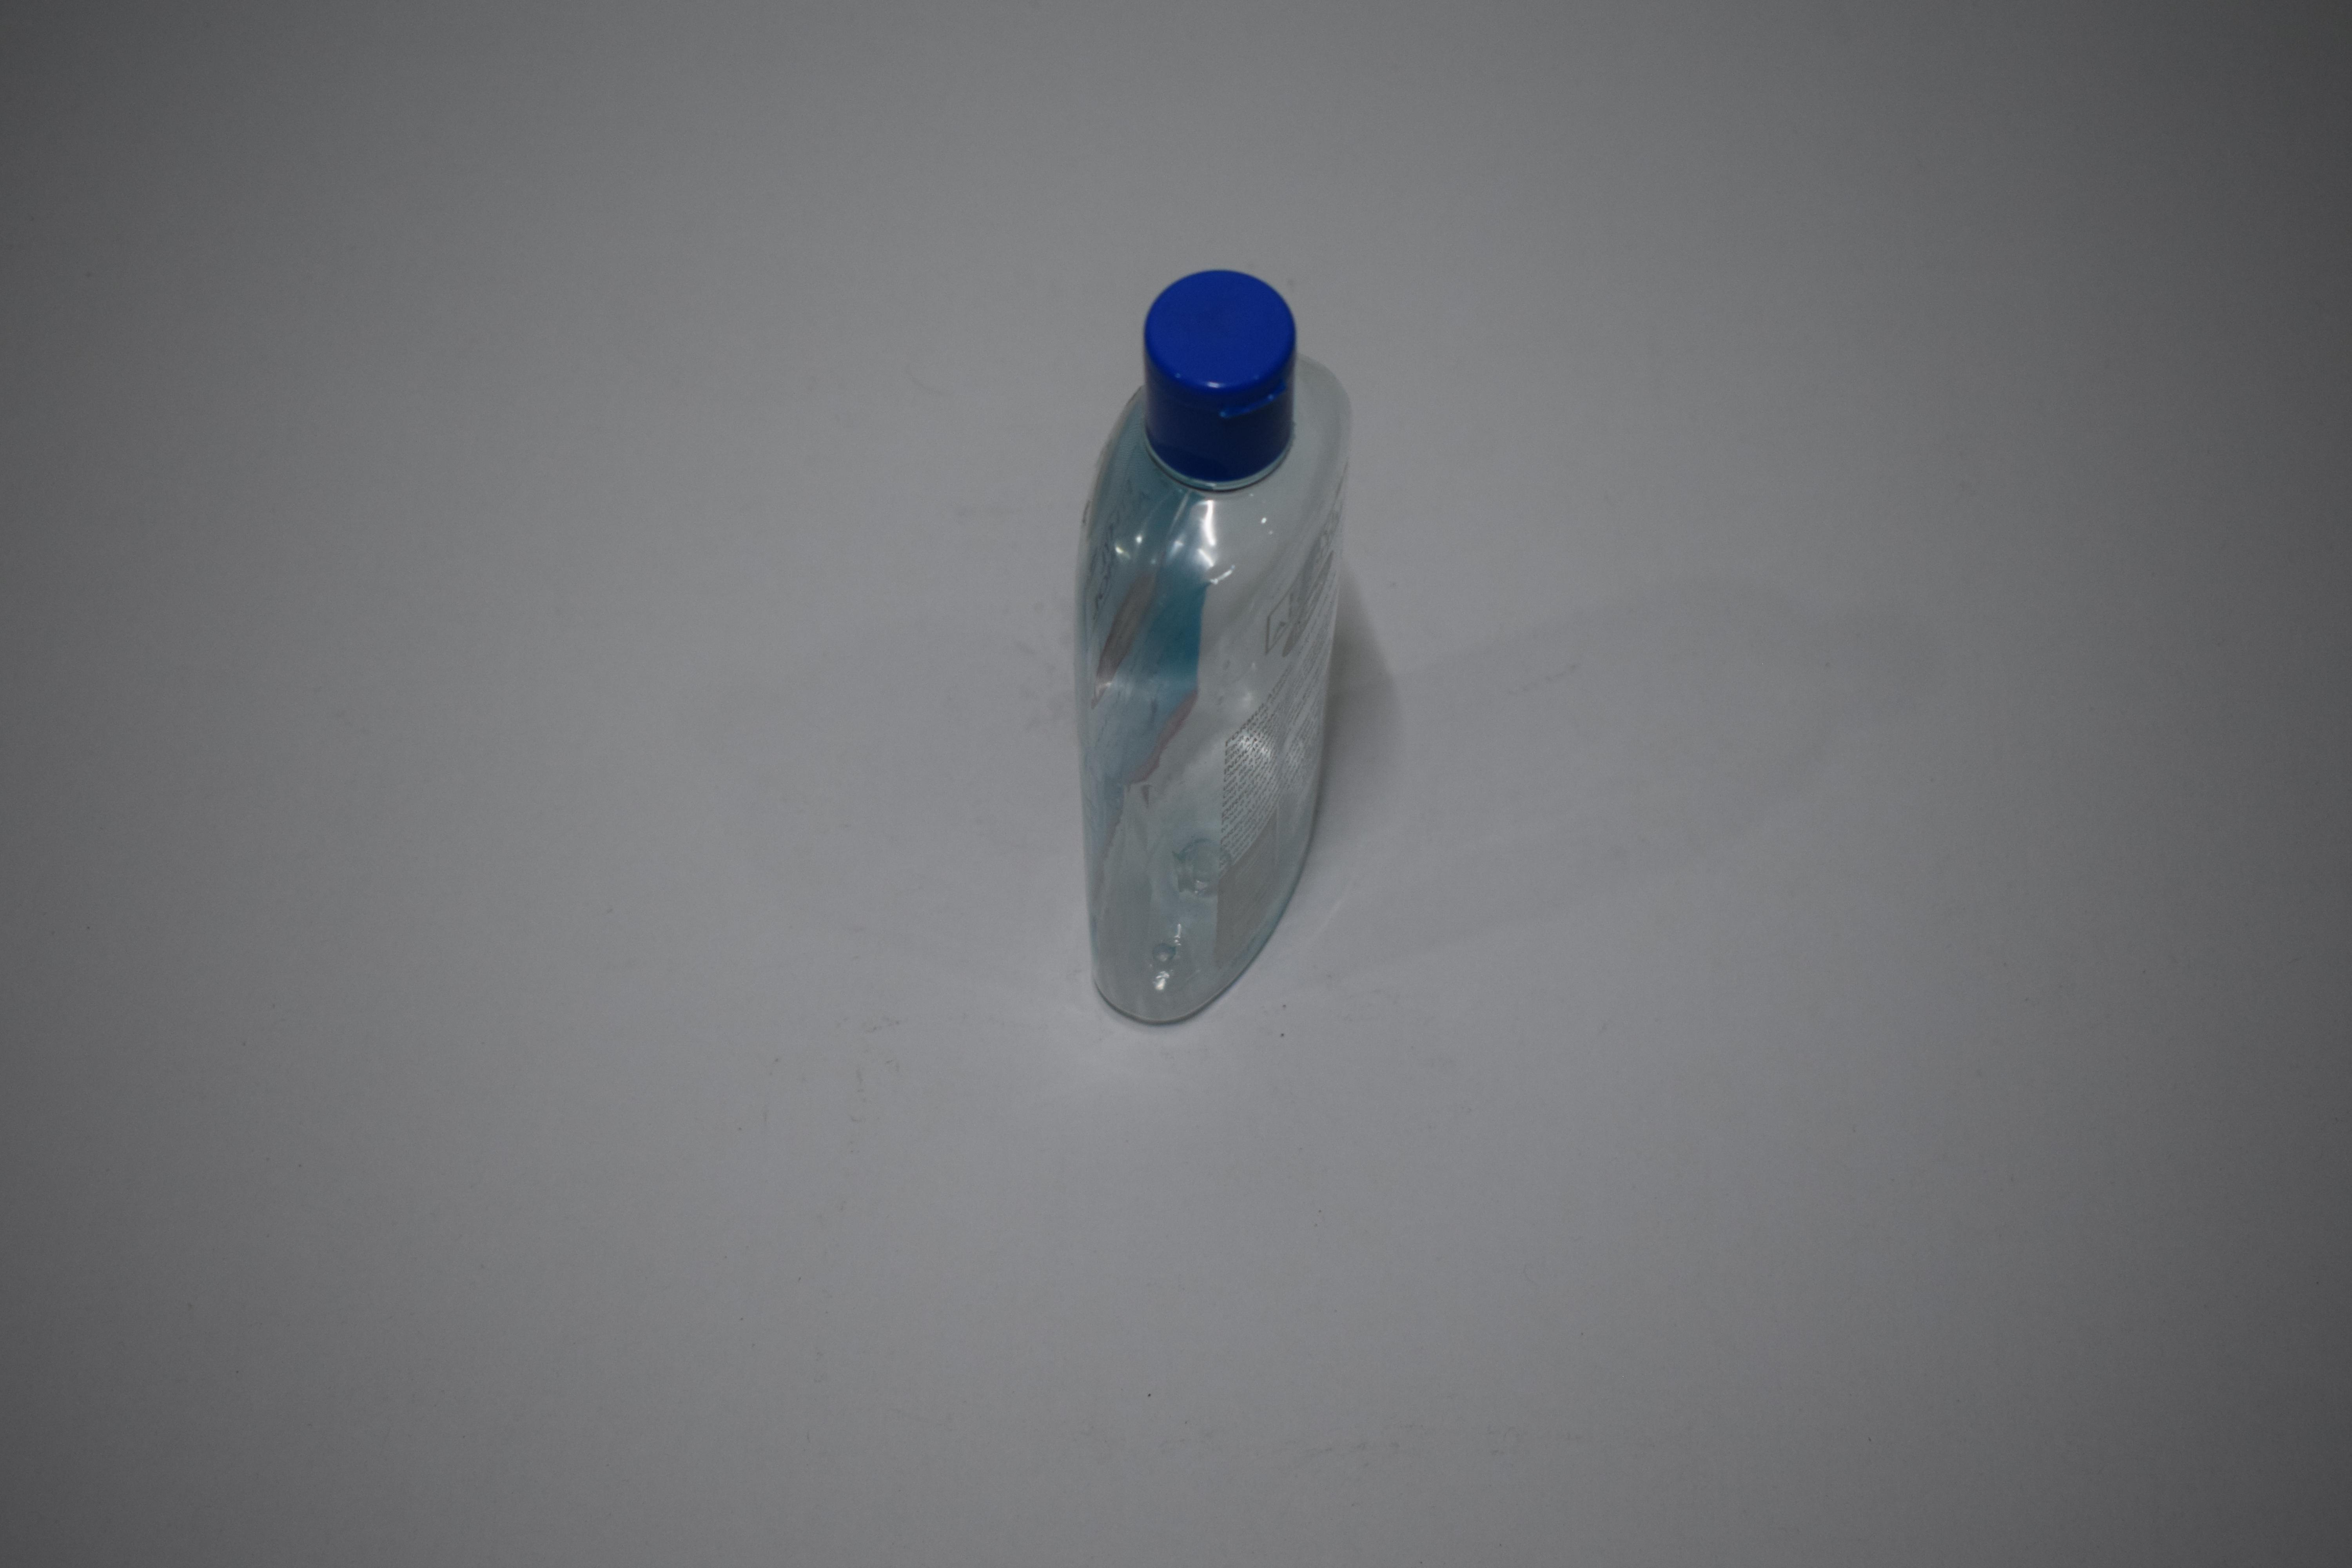bottle: (0, 256, 180, 1034)
